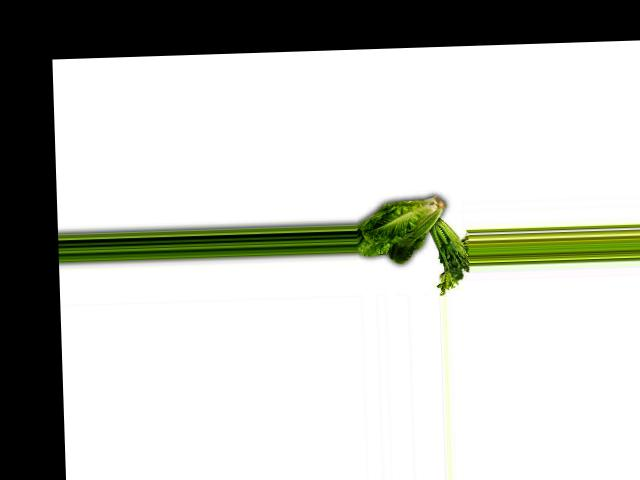lettuce: (355, 199, 452, 272)
